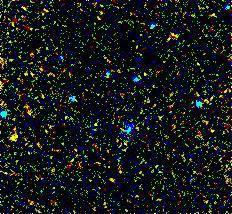star: (0, 123, 29, 153)
